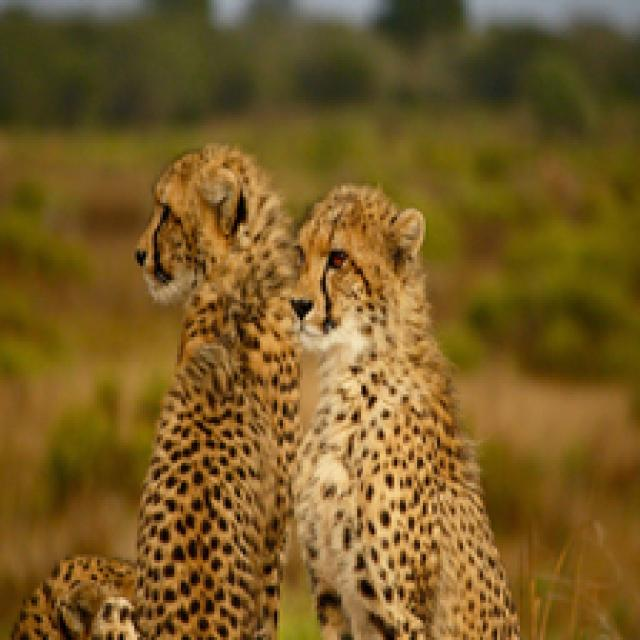cheetah: (2, 149, 285, 640), (282, 173, 518, 637)
